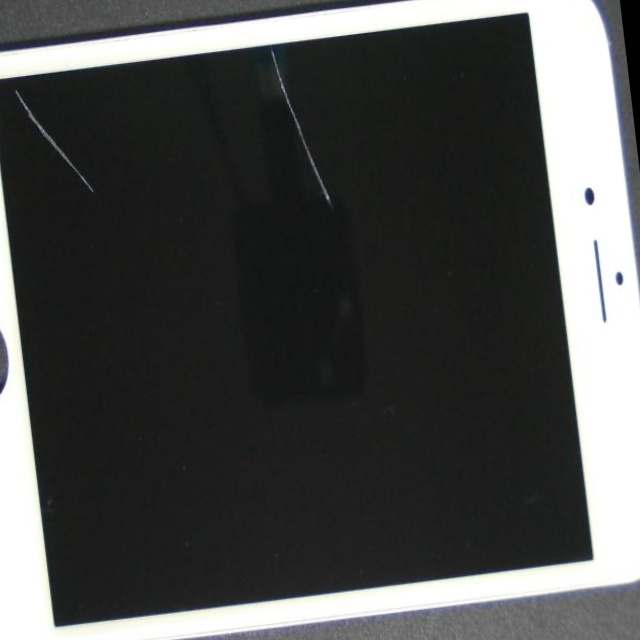scratch: (42, 0, 469, 193), (0, 0, 94, 209)
